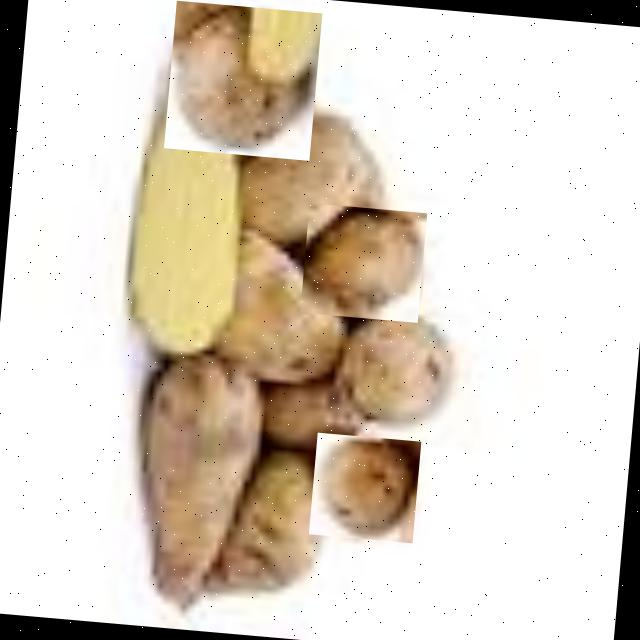Diseased-fungal potato: (162, 1, 320, 160), (333, 308, 466, 440), (298, 202, 426, 322), (308, 432, 420, 543)
